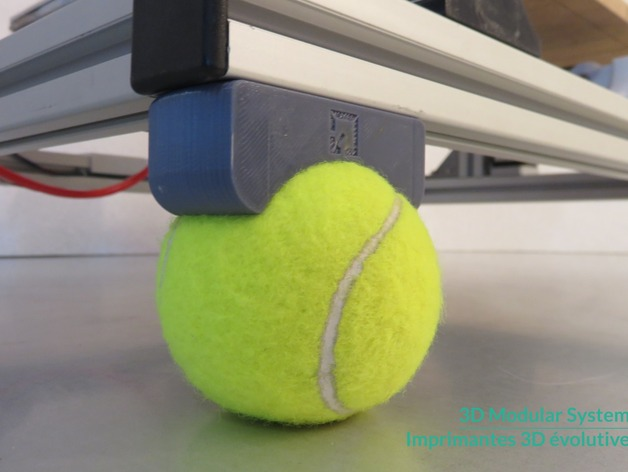aim: (155, 160, 443, 430)
